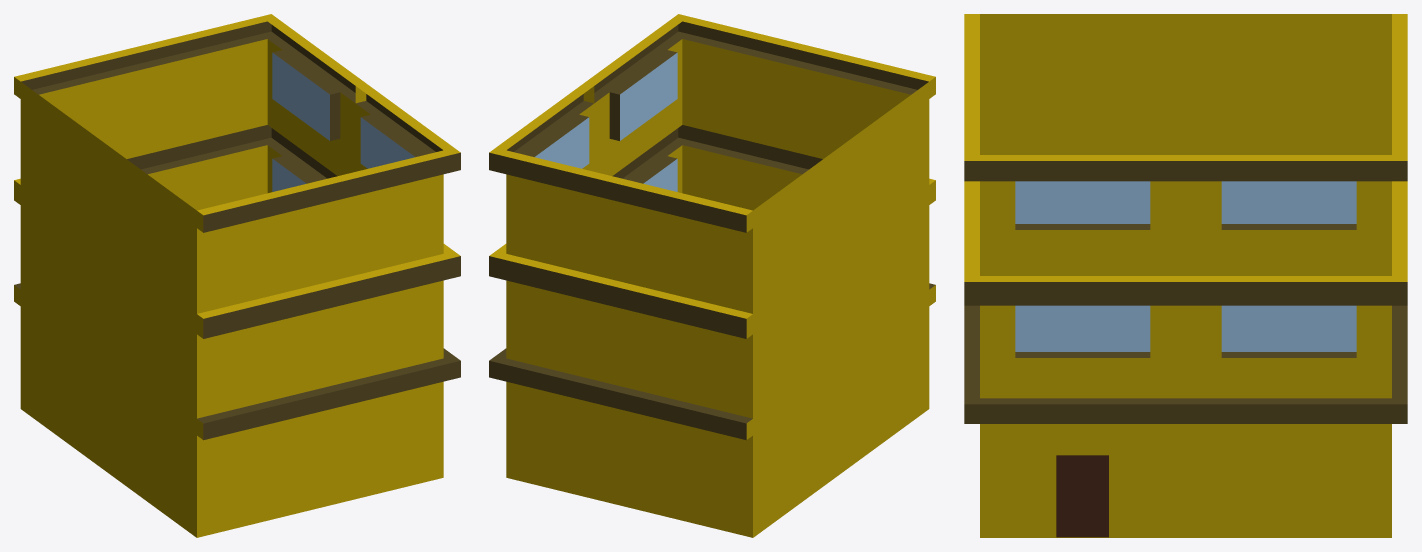
File: yellow short building 2.fbx
3 renders of one model, left to right at view 1: azimuth 30°, elevation 25°; view 2: azimuth 150°, elevation 25°; view 3: azimuth 270°, elevation 25°, orthographic. The views are drawn at different scales.
Visible parts, largest first — view 1: Cube; view 2: Cube; view 3: Cube.
Boxes of the visible parts, x1,y1,x2,y2 form: Cube: (14,14,460,537); Cube: (489,14,935,537); Cube: (964,14,1407,537).
Size of the model in its own units: 209 by 254 by 266.
